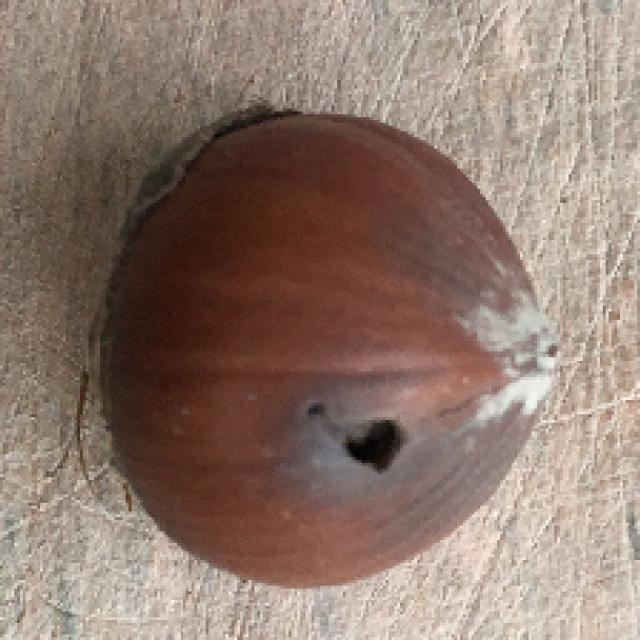damagedHazelnut: (92, 101, 566, 590)
